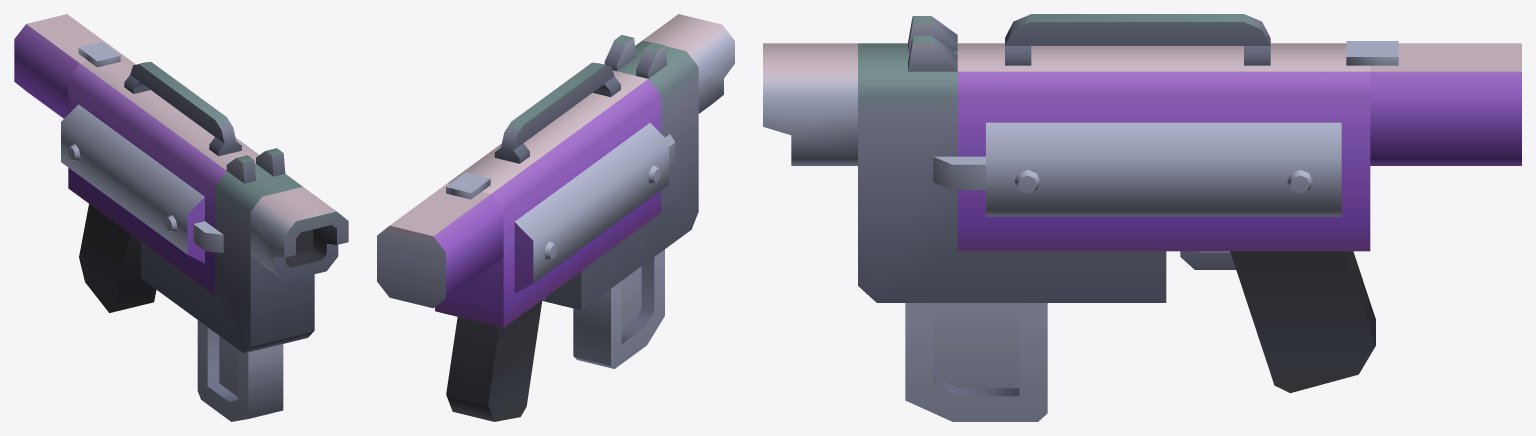
The picture shows the model from 3 angles, left to right: view 1: azimuth 30°, elevation 25°; view 2: azimuth 150°, elevation 25°; view 3: azimuth 270°, elevation 25°; orthographic projection. The views are drawn at different scales.
Parts seen in each view (by area): view 1: blaster-a; view 2: blaster-a; view 3: blaster-a.
Part boxes in pixels (box(x1,y1,x2,y2)): blaster-a: box(14, 14, 348, 421); blaster-a: box(377, 14, 734, 421); blaster-a: box(763, 14, 1521, 421).
Size of the model in its own units: 0.1057 by 0.2622 by 0.46.
Materials: 1 (1 with a texture image).
